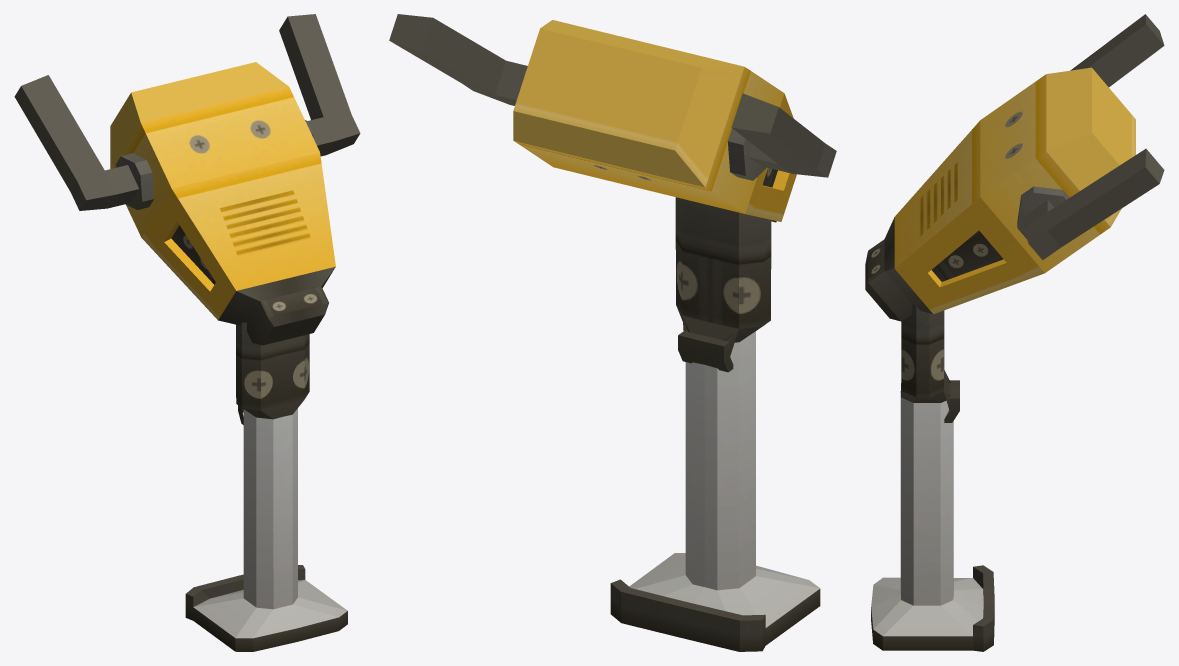
File: Compactor.fbx
3 views of the same model, side by side, from view 1: azimuth 30°, elevation 25°; view 2: azimuth 150°, elevation 25°; view 3: azimuth 270°, elevation 25° (orthographic). The views are drawn at different scales.
Parts seen in each view (by area): view 1: CompactorHandle, CompactorWack; view 2: CompactorHandle, CompactorWack; view 3: CompactorHandle, CompactorWack.
Boxes of the visible parts, x1,y1,x2,y2 form: CompactorHandle: (14, 14, 360, 345); CompactorWack: (185, 322, 347, 651); CompactorHandle: (389, 14, 836, 222); CompactorWack: (610, 197, 820, 651); CompactorHandle: (865, 14, 1164, 321); CompactorWack: (871, 304, 994, 651).
Bounding box in the file's own units: 1.04 × 1.69 × 0.8547.
